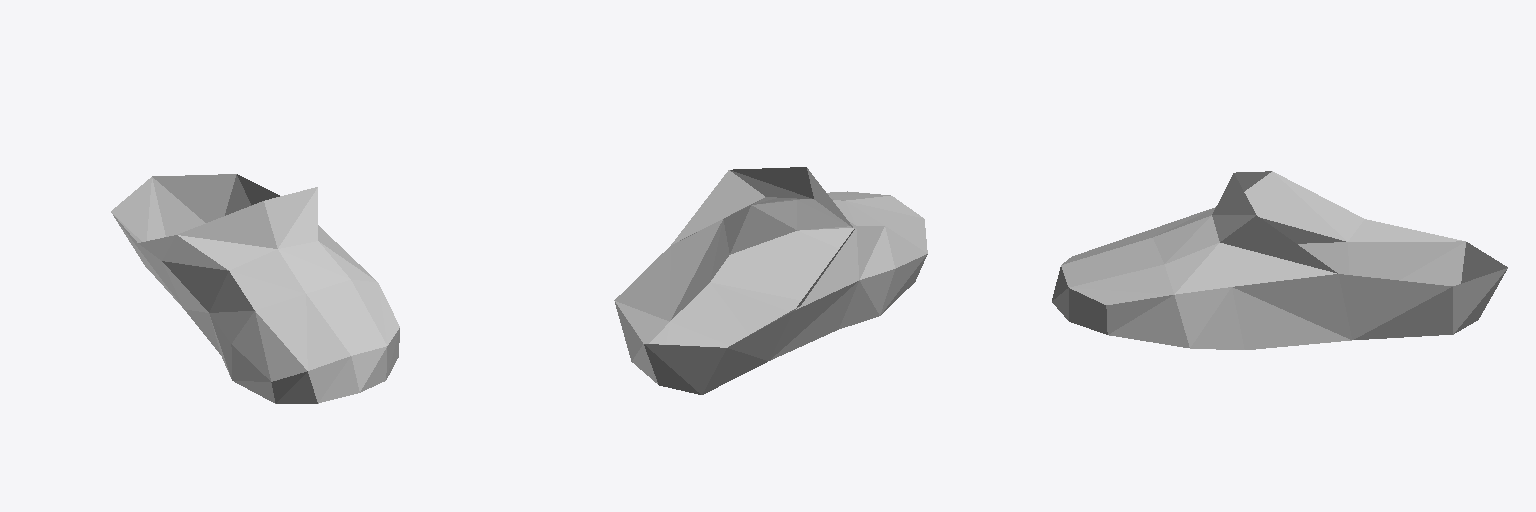
The model's file is human_leftshoe.obj.
The picture shows the model from 3 angles: view 1: azimuth 30°, elevation 25°; view 2: azimuth 150°, elevation 25°; view 3: azimuth 270°, elevation 25°; orthographic projection.
Visible parts, largest first — view 1: Left_Shoe; view 2: Left_Shoe; view 3: Left_Shoe.
Part boxes in pixels (left/top/right/bottom): Left_Shoe: left=111, top=174, right=399, bottom=403; Left_Shoe: left=614, top=167, right=927, bottom=394; Left_Shoe: left=1052, top=171, right=1507, bottom=349.
Size of the model in its own units: 0.1955 by 0.1707 by 0.4654.